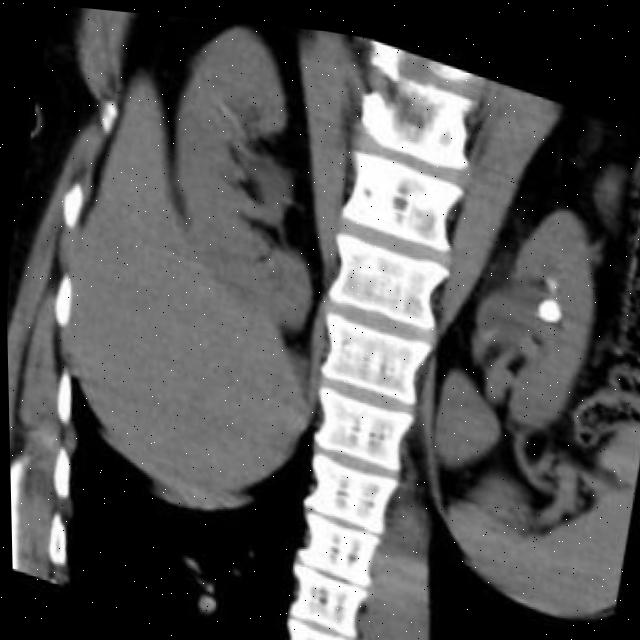Tas_Var: (530, 280, 572, 324), (541, 262, 564, 286)
